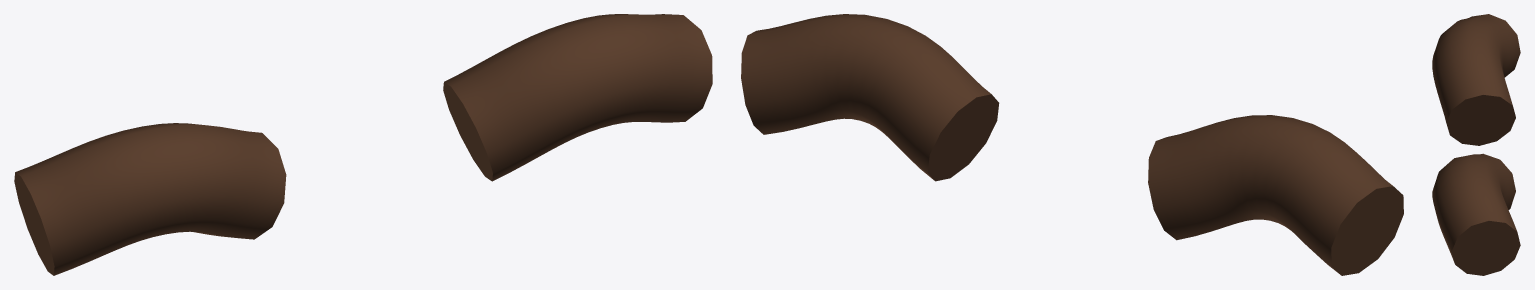
Rendered from brows_soft_pair.glb.
The picture shows the model from 3 angles, left to right: view 1: azimuth 30°, elevation 25°; view 2: azimuth 150°, elevation 25°; view 3: azimuth 270°, elevation 25°; orthographic projection. The views are drawn at different scales.
Visible parts, largest first — view 1: BrowsPair.001; view 2: BrowsPair.001; view 3: BrowsPair.001.
Boxes of the visible parts, x1,y1,x2,y2 form: BrowsPair.001: (14,14,712,275); BrowsPair.001: (741,14,1403,275); BrowsPair.001: (1432,14,1520,275).
Bounding box in the file's own units: 0.1468 × 0.0284 × 0.0262.
